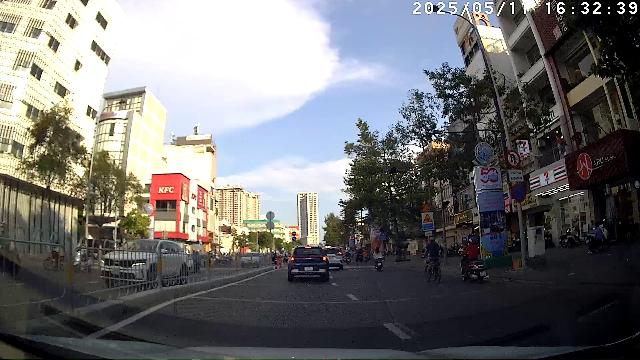124b-cam-oto-quay-dau-xe: (506, 149, 521, 169)
